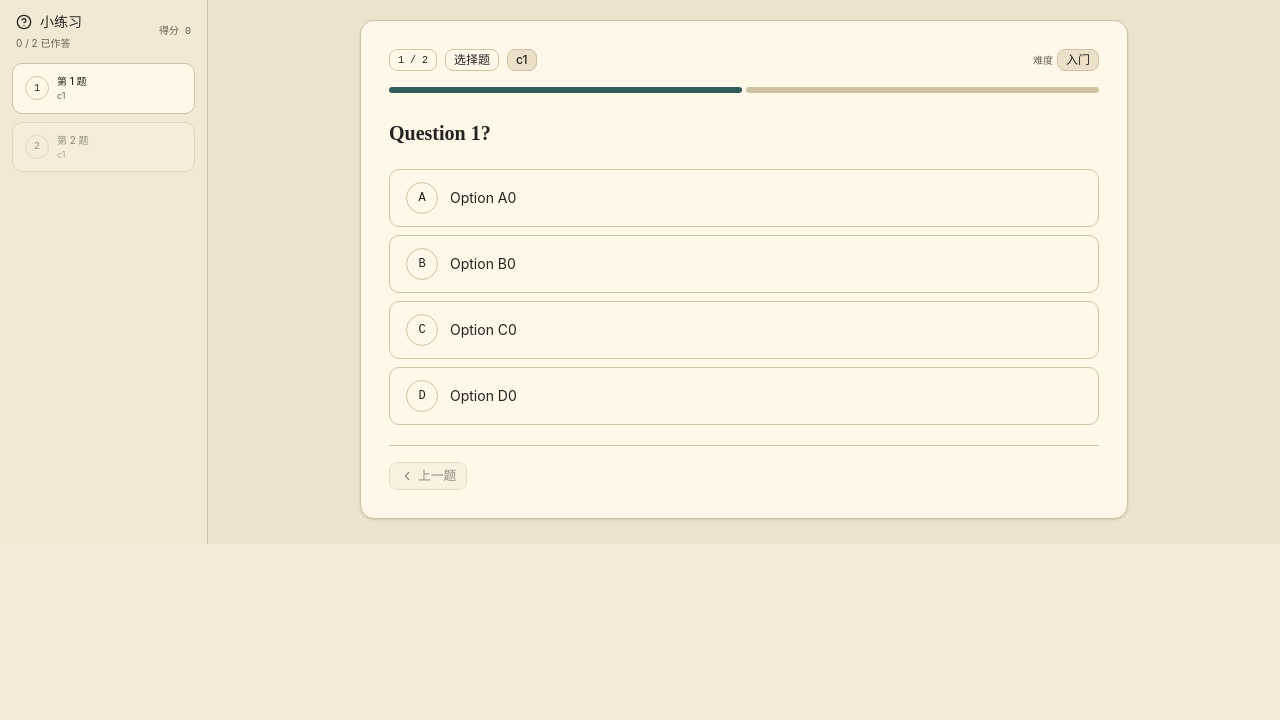
Scenario: QuizPanel › shows answer state in the question rail and allows review
Click the button "A Option A0".
click(422, 198)  # box [389,169,1099,227]
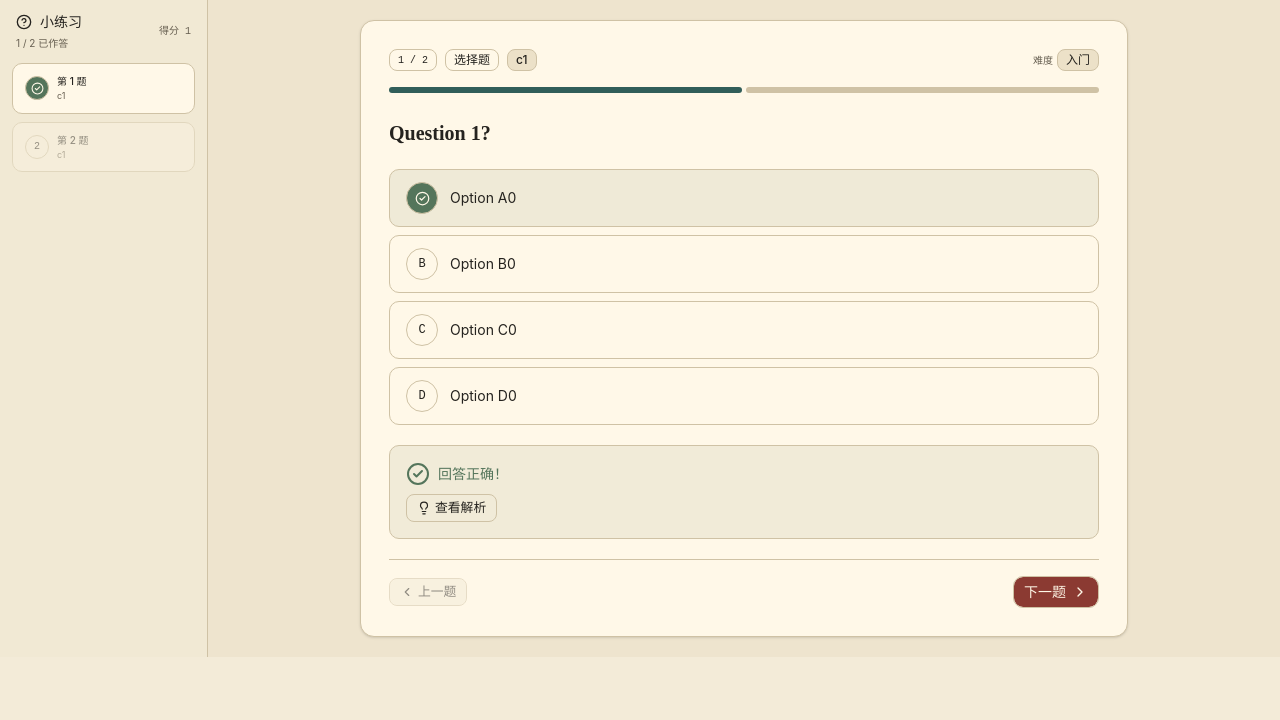
Click the button "下一题".
click(1056, 592)  # box [1013,576,1099,608]
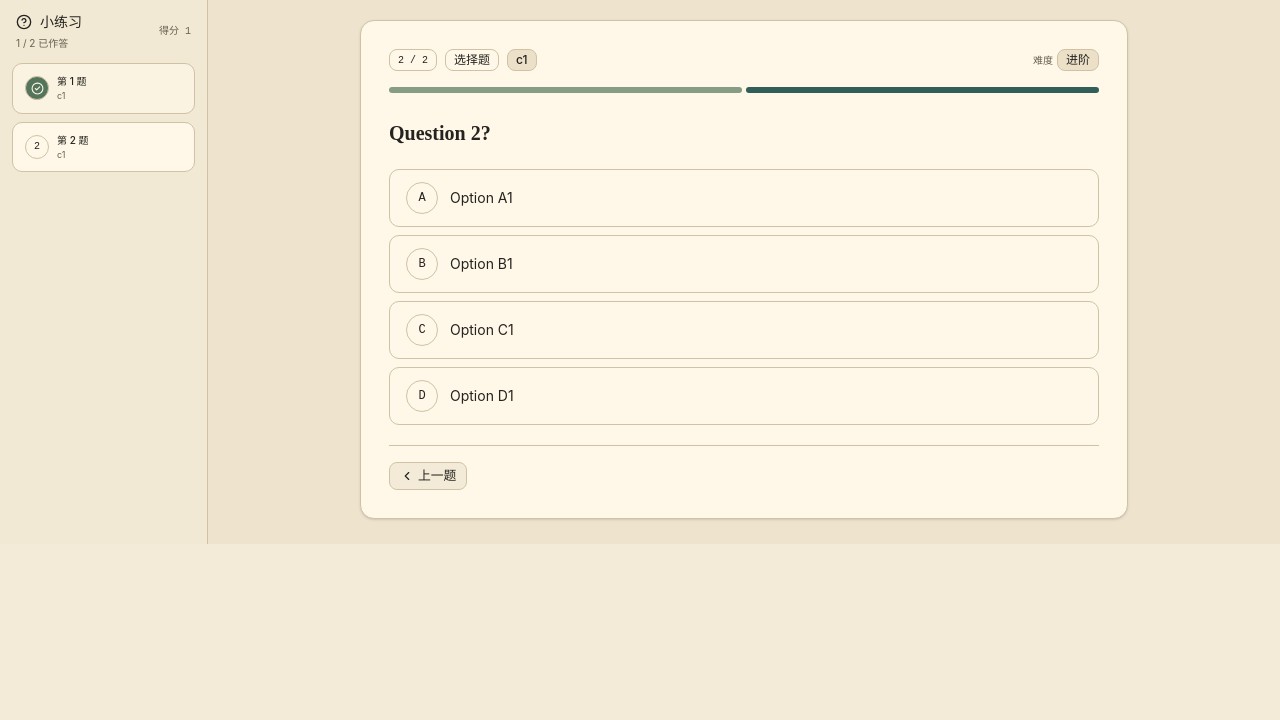
Now the button named "查看第 2 题" is marked as current, box [12,122,195,172]
Click the button named "查看第 1 题".
click(104, 88)  # box [12,63,195,114]
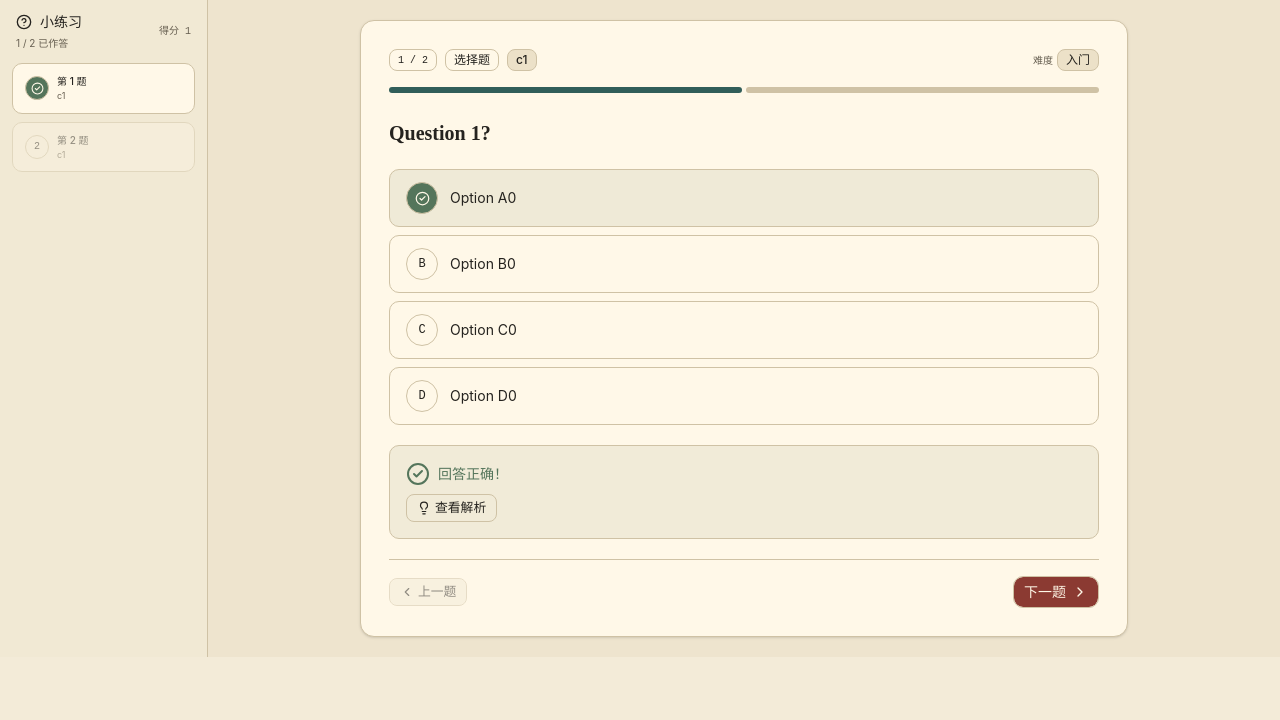
Expected: the heading "Question 1?" is shown, [389,122,491,144]
Now the text "回答正确！" is shown, box [406,462,508,486]
